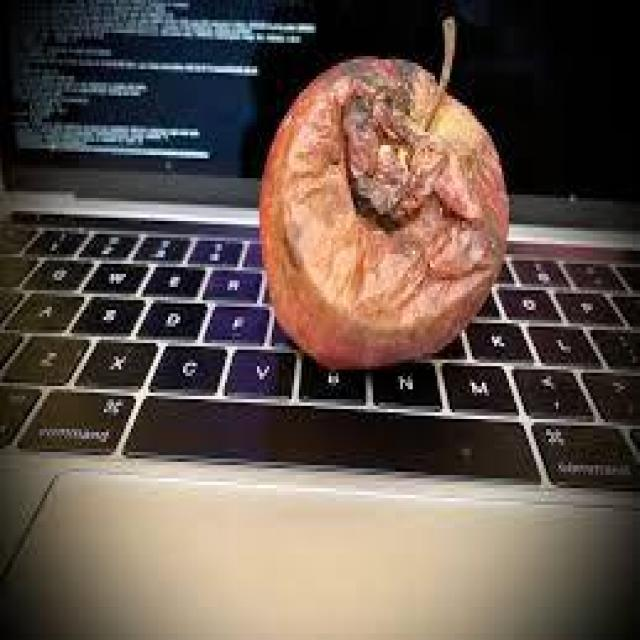Rotten: (253, 57, 507, 378)
